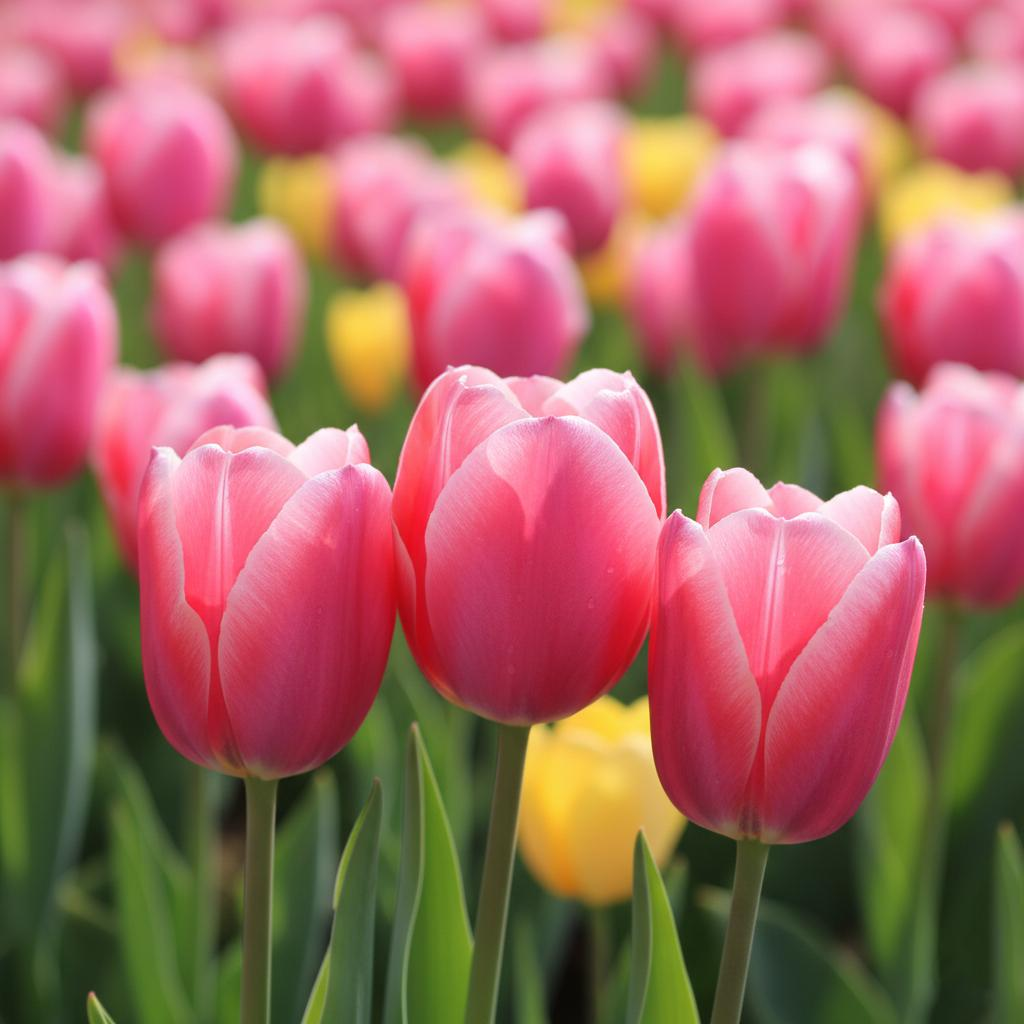tulip: (646, 464, 928, 846), (389, 362, 666, 727), (133, 421, 399, 781)
